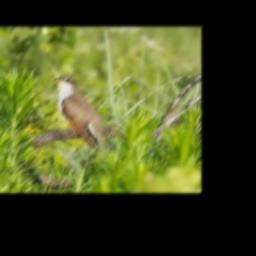Cuckoo: (53, 75, 108, 155)
